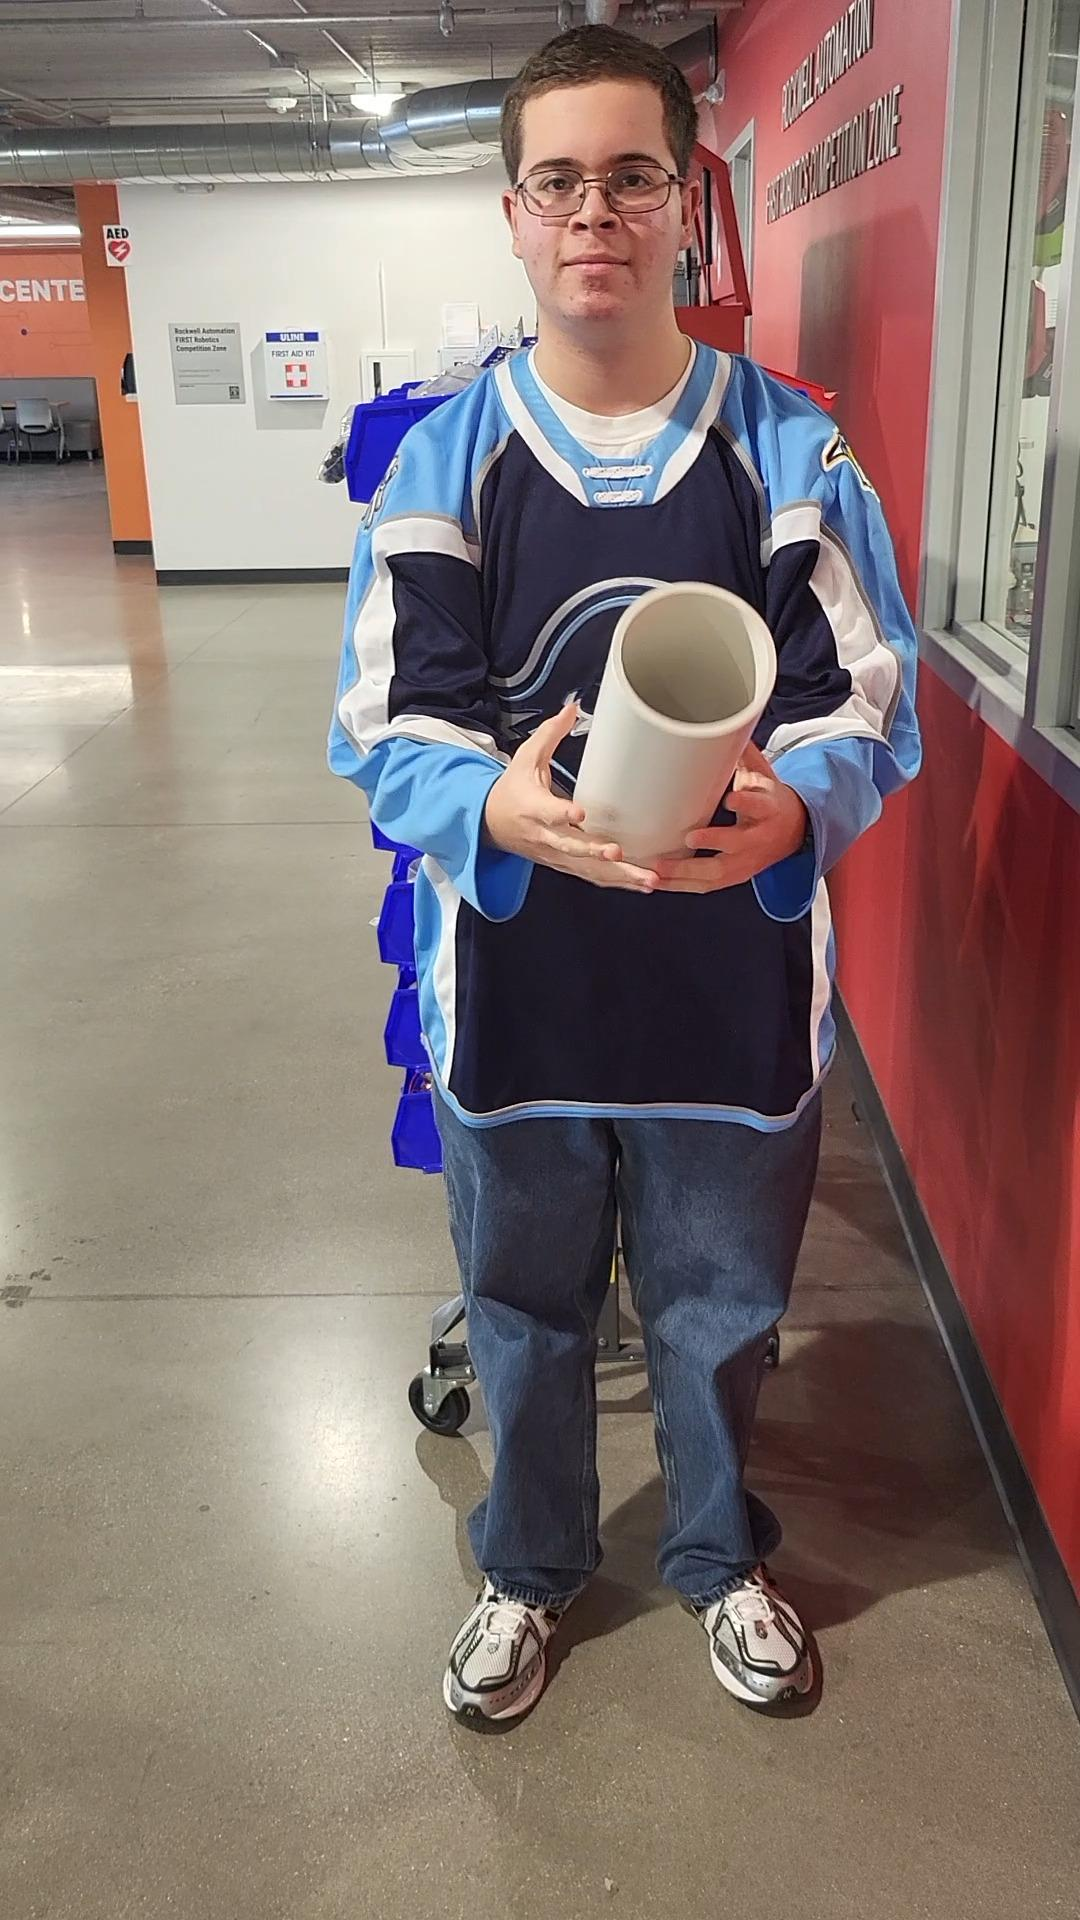coral: (587, 578, 783, 877)
